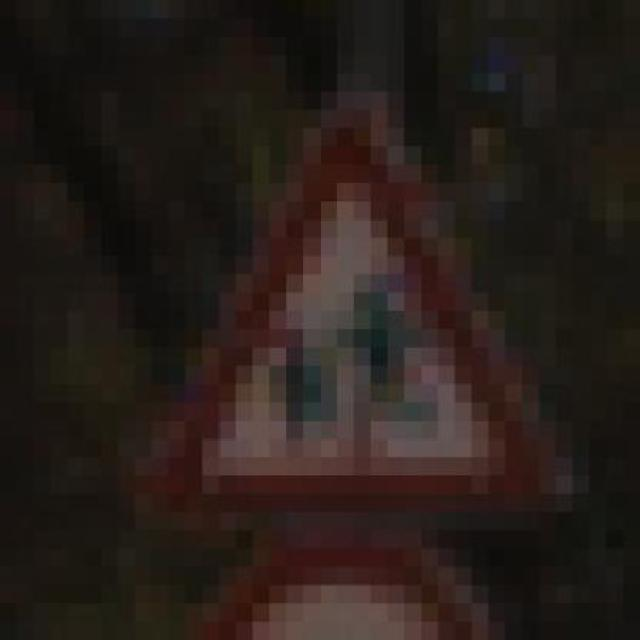Beware of children: (101, 92, 556, 530)
